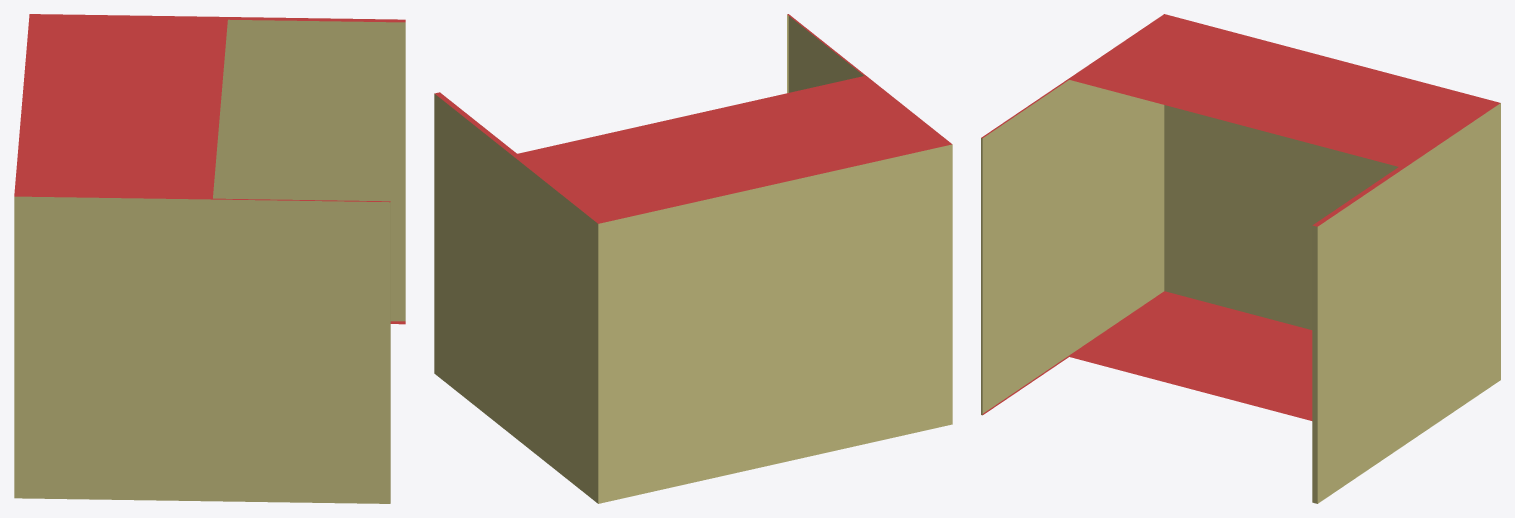
The picture shows the model from 3 angles, left to right: view 1: azimuth 30°, elevation 25°; view 2: azimuth 150°, elevation 25°; view 3: azimuth 270°, elevation 25°; orthographic projection. The views are drawn at different scales.
Size of the model in its own units: 10.41 by 10.74 by 6.32.
